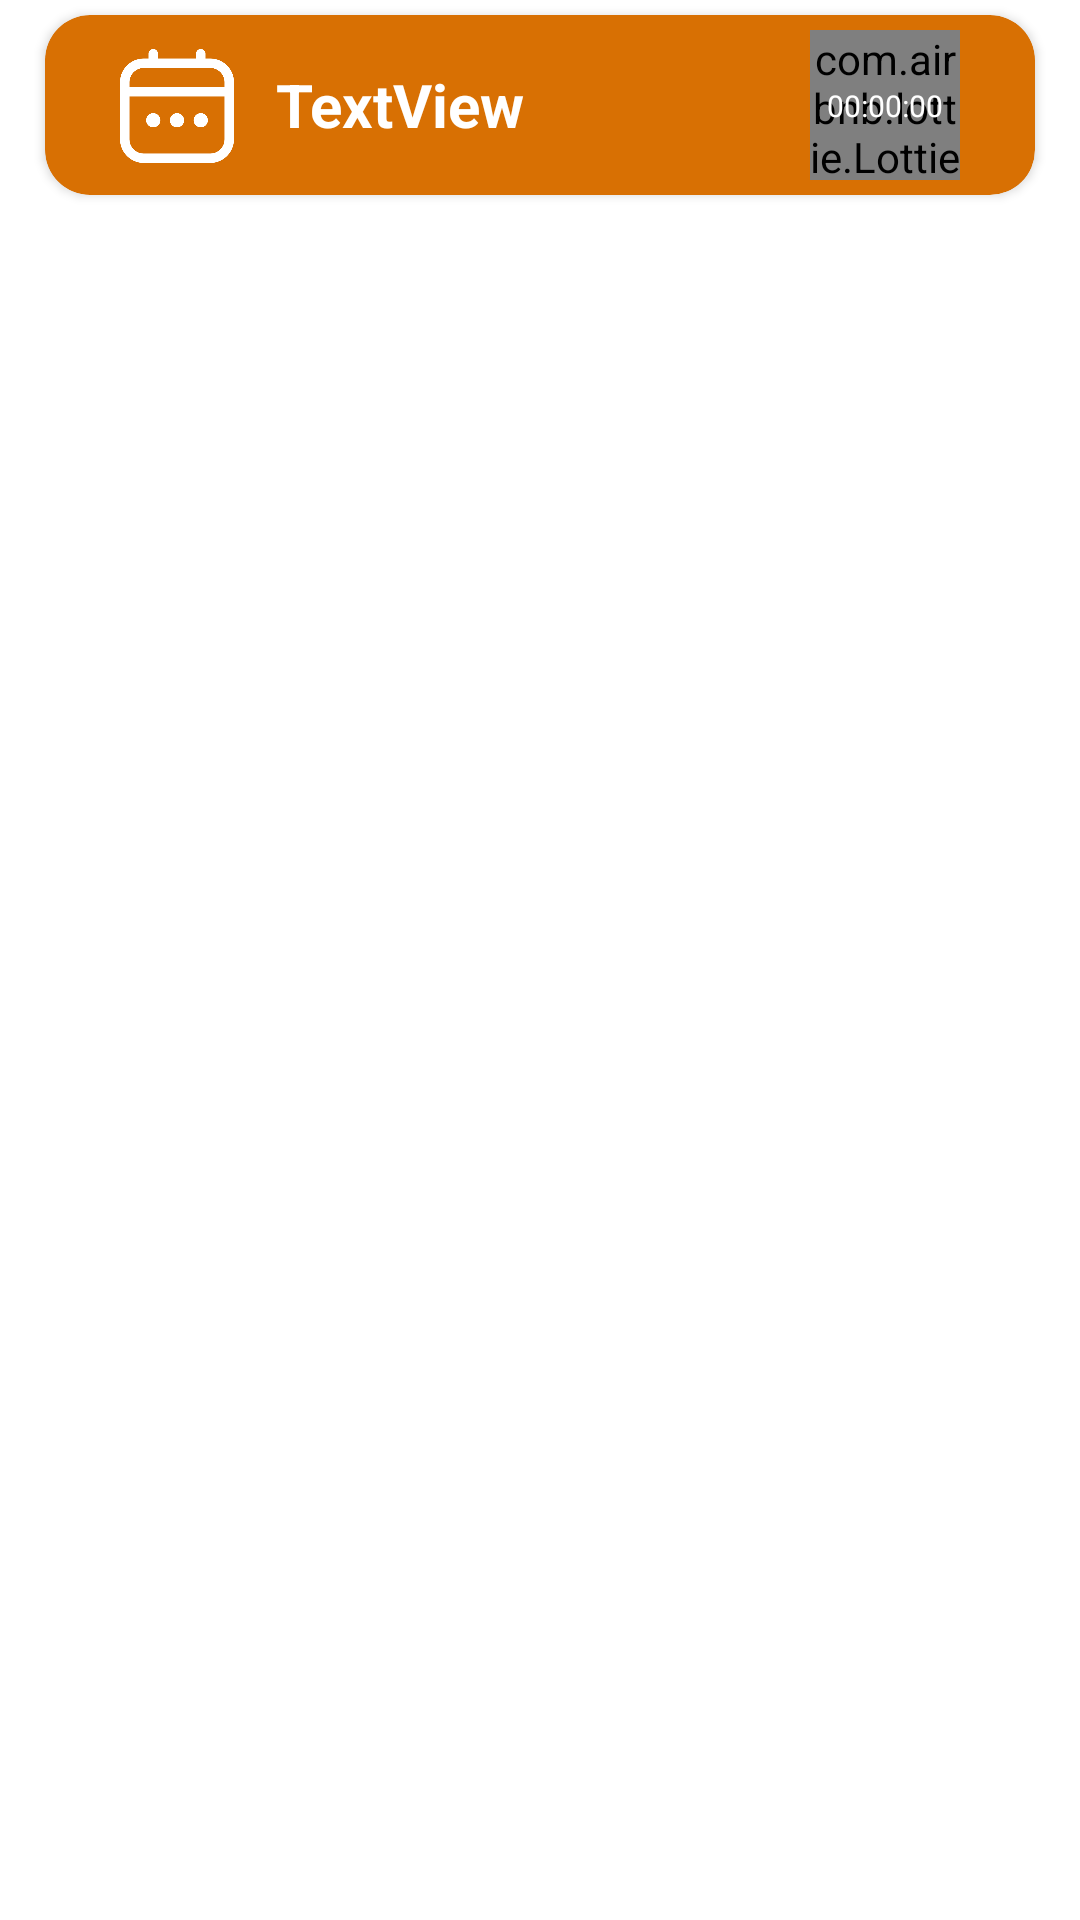

Point at icon controls on the screen. Image size 1080px×1920px, points as (x,y).
calendar: (177,106)
